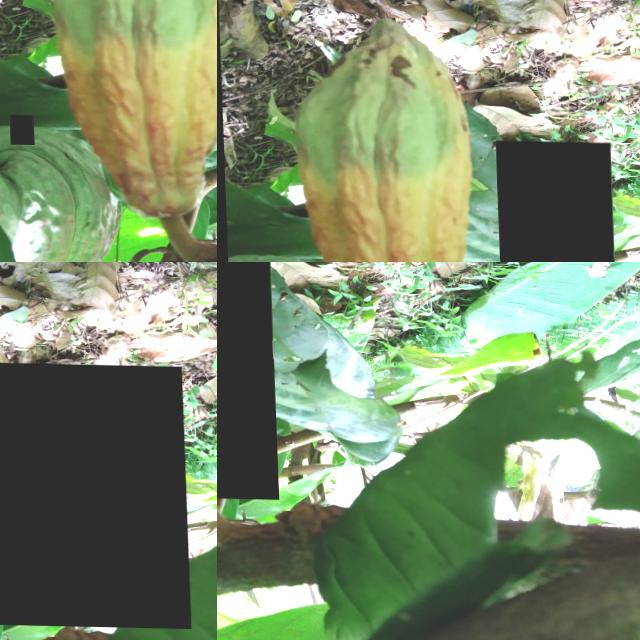Monilia: (0, 361, 187, 627), (493, 139, 613, 262)
Sana: (7, 113, 32, 145)
